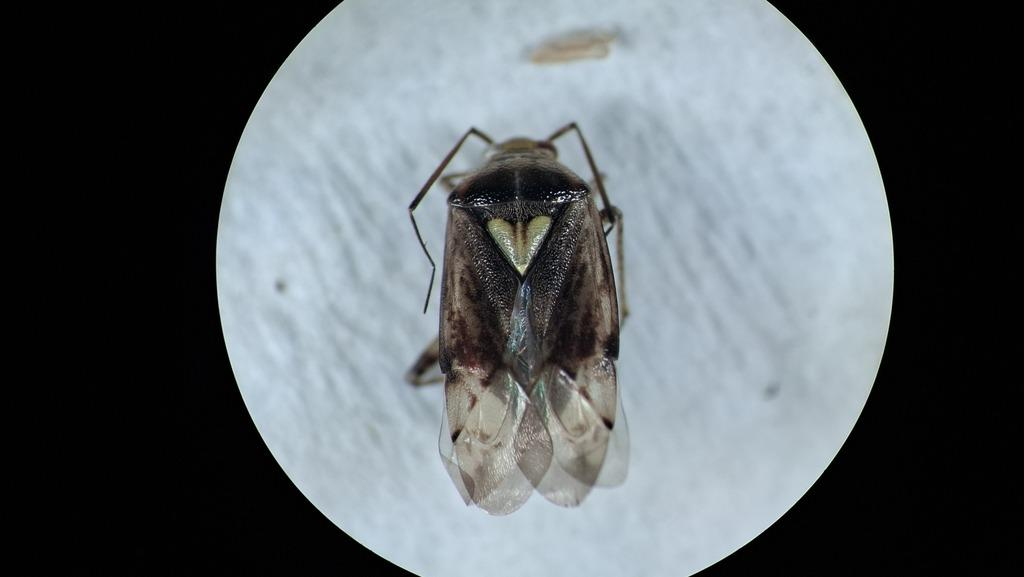plant_bugs: (304, 75, 732, 551)
